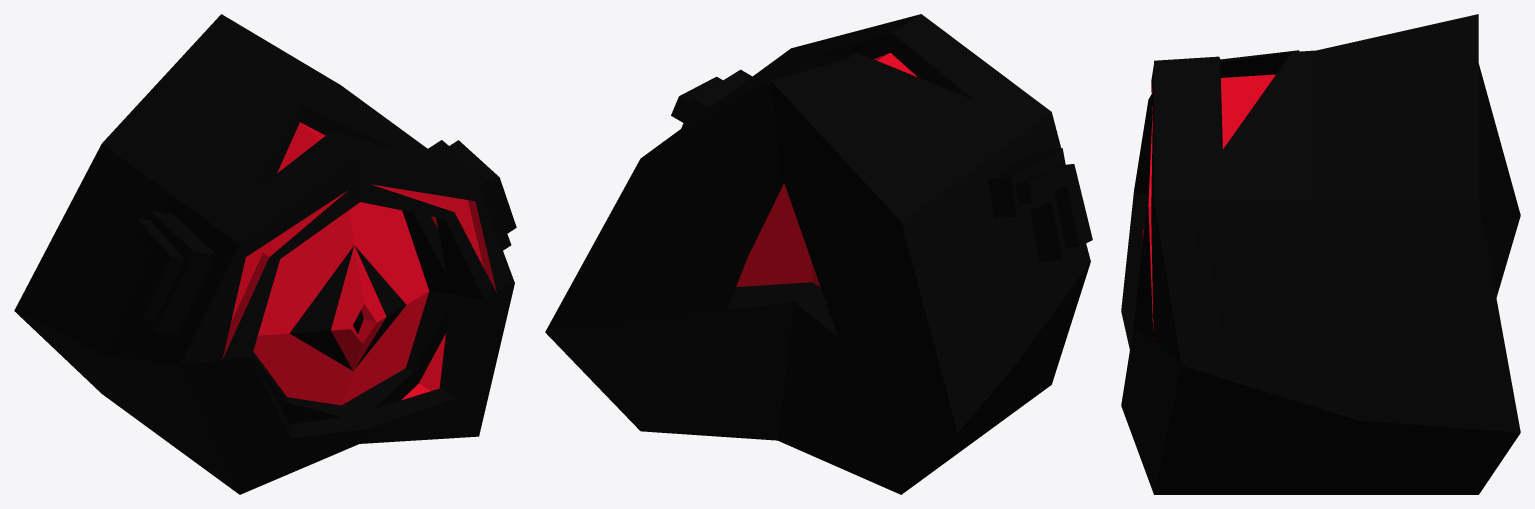
Rendered from enemigo.fbx.
The picture shows the model from 3 angles, left to right: view 1: azimuth 30°, elevation 25°; view 2: azimuth 150°, elevation 25°; view 3: azimuth 270°, elevation 25°; orthographic projection. The views are drawn at different scales.
Visible parts, largest first — view 1: Cube; view 2: Cube; view 3: Cube.
Boxes of the visible parts, left/top/right/bottom form: Cube: left=14, top=14, right=516, bottom=494; Cube: left=545, top=14, right=1092, bottom=494; Cube: left=1121, top=14, right=1520, bottom=494.
Size of the model in its own units: 158 by 140 by 123.
